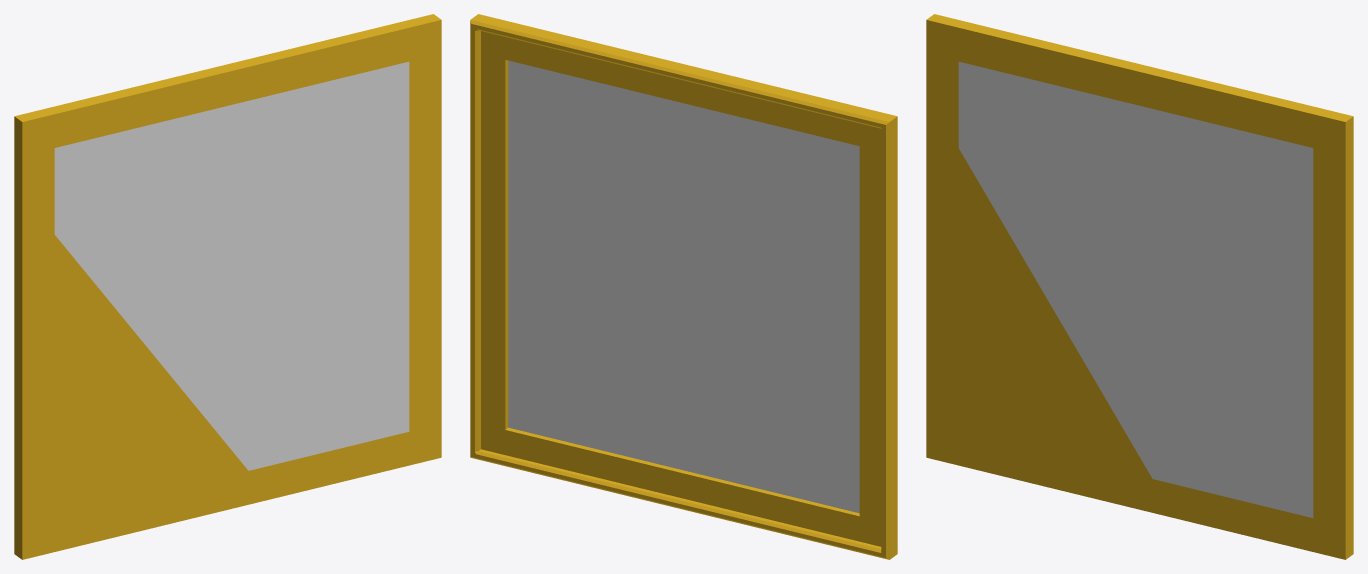
File: frame_26x26.fbx
The picture shows the model from 3 angles, left to right: view 1: azimuth 30°, elevation 25°; view 2: azimuth 150°, elevation 25°; view 3: azimuth 330°, elevation 25°; orthographic projection.
Parts seen in each view (by area): view 1: Painting_27x27; view 2: Painting_27x27; view 3: Painting_27x27.
Part boxes in pixels (x1,y1,x2,y2): Painting_27x27: (14, 14, 441, 559); Painting_27x27: (470, 14, 897, 559); Painting_27x27: (926, 14, 1353, 559).
Bounding box in the file's own units: 0.6481 × 0.6467 × 0.025.
